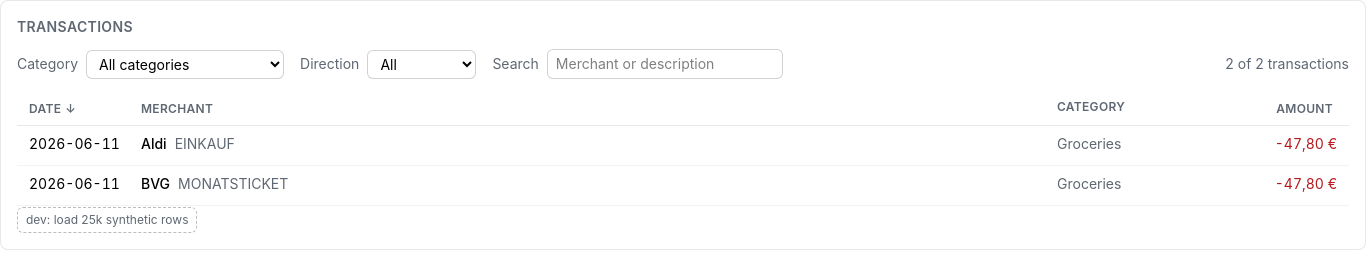
TransactionsPanel › debounced search narrows rows by merchant
The width and height of the screenshot is (1366, 267).
Expected: the table named "Transactions" is shown, [17,91,1349,206]
Step 1. Type "bvg" into the search field labelled "Search" → {"x": 665, "y": 64}, box [547,49,783,79]
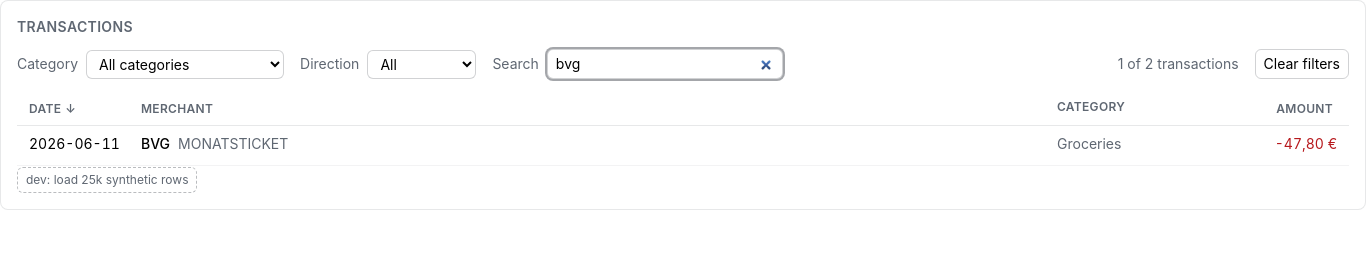
Now the text "1 of 2 transactions" is shown, box [1118,54,1239,74]
Now the text "Aldi" is gone
